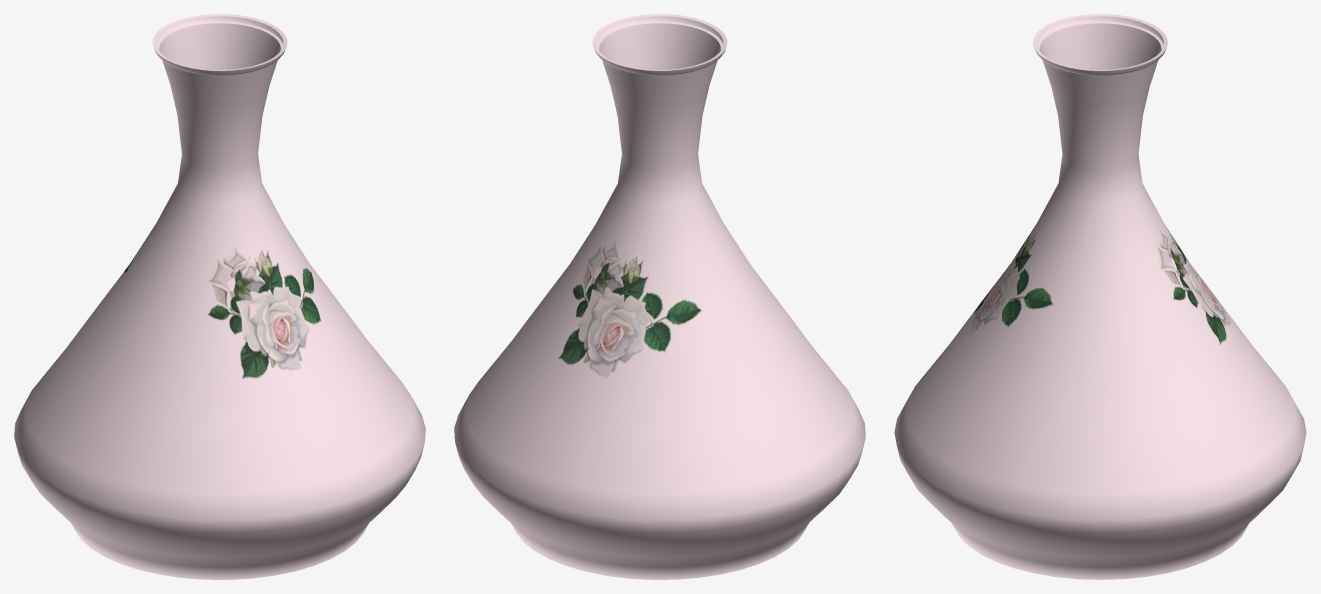
File: AP_vase03_TL.fbx
The picture shows the model from 3 angles, left to right: view 1: azimuth 30°, elevation 25°; view 2: azimuth 150°, elevation 25°; view 3: azimuth 270°, elevation 25°; orthographic projection.
Visible parts, largest first — view 1: pCylinder1; view 2: pCylinder1; view 3: pCylinder1.
Boxes of the visible parts, left/top/right/bottom form: pCylinder1: left=14, top=14, right=425, bottom=579; pCylinder1: left=454, top=14, right=865, bottom=579; pCylinder1: left=894, top=14, right=1306, bottom=579.
Size of the model in its own units: 1.35 by 1.71 by 1.35.
Materials: 1 (1 with a texture image).
